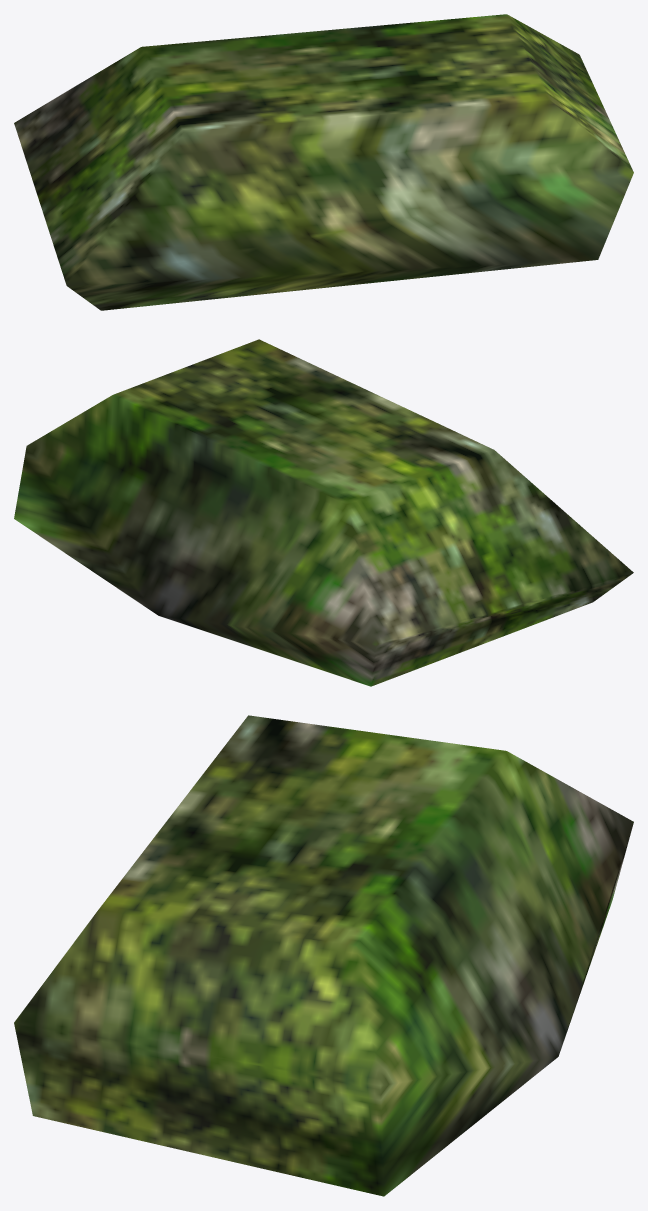
File: frst_rock_mossy_sm_a1_l1.fbx
The picture shows the model from 3 angles, top to bottom: view 1: azimuth 30°, elevation 25°; view 2: azimuth 150°, elevation 25°; view 3: azimuth 270°, elevation 25°; orthographic projection. The views are drawn at different scales.
Parts seen in each view (by area): view 1: mesh_node; view 2: mesh_node; view 3: mesh_node.
Part boxes in pixels (bbox=[...]): mesh_node: bbox=[14, 14, 633, 310]; mesh_node: bbox=[14, 339, 633, 686]; mesh_node: bbox=[14, 715, 633, 1196].
Bounding box in the file's own units: 1.22 × 0.2898 × 0.8538.
